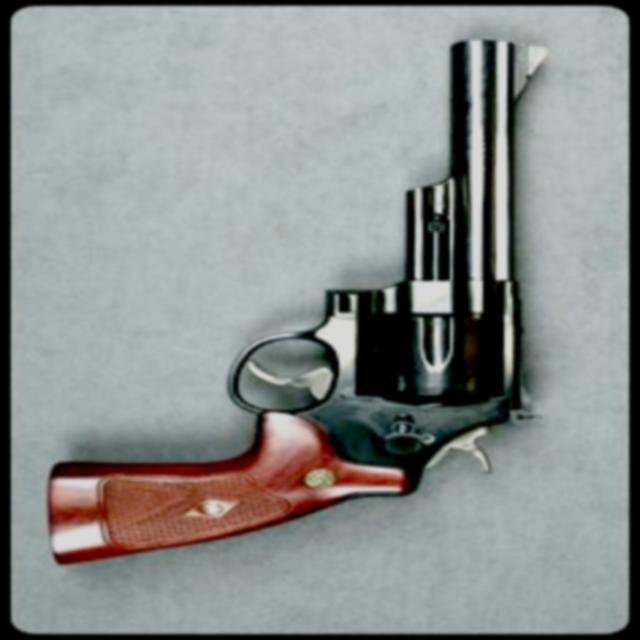revolver: (23, 16, 599, 589)
